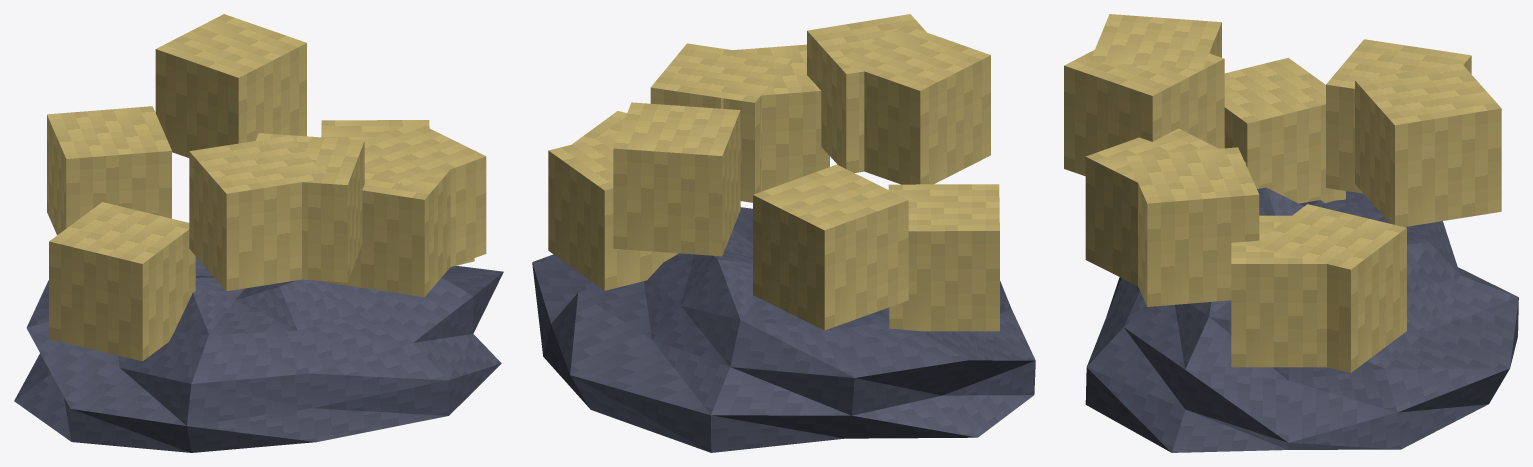
The model's file is cave-and-crystal-networks-pyrite-mass-fbc76049.glb.
3 renders of one model, left to right at view 1: azimuth 30°, elevation 25°; view 2: azimuth 150°, elevation 25°; view 3: azimuth 270°, elevation 25°, orthographic. The views are drawn at different scales.
Parts seen in each view (by area): view 1: pyrite-mass; view 2: pyrite-mass; view 3: pyrite-mass.
Part boxes in pixels (bbox=[...]): pyrite-mass: bbox=[14, 14, 503, 452]; pyrite-mass: bbox=[532, 14, 1035, 452]; pyrite-mass: bbox=[1064, 14, 1518, 452].
Bounding box in the file's own units: 0.8923 × 0.49 × 0.7178.
2 materials, 2 textured.
